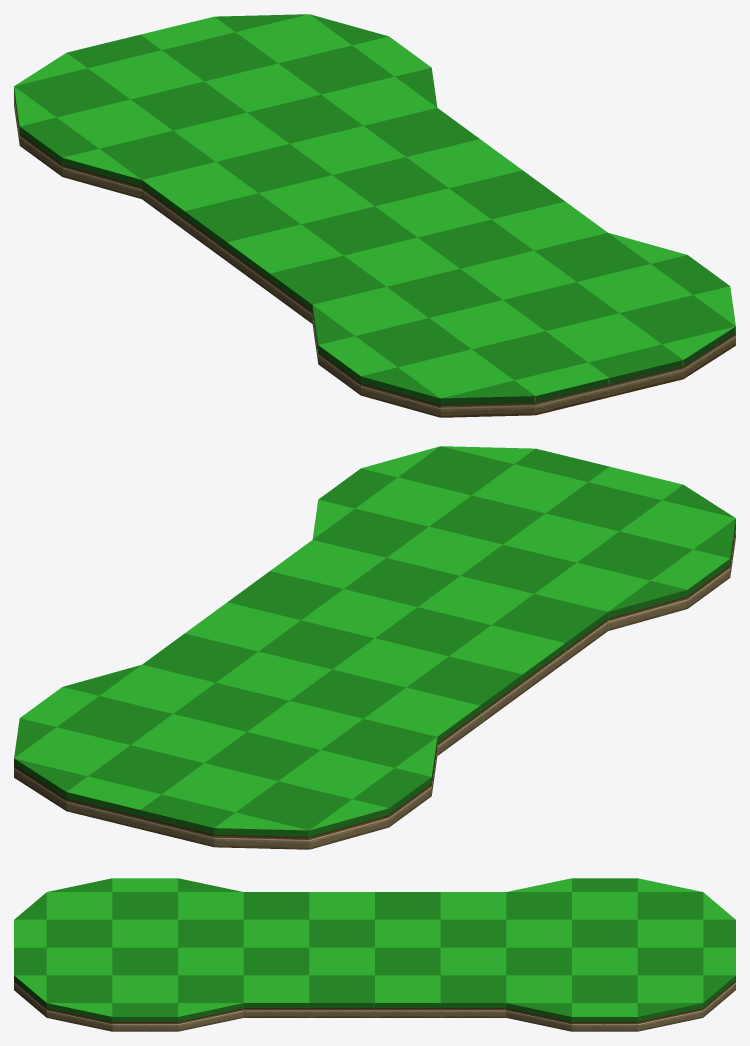
3 views of the same model, one above another, from view 1: azimuth 30°, elevation 25°; view 2: azimuth 150°, elevation 25°; view 3: azimuth 270°, elevation 25° (orthographic). The views are drawn at different scales.
Visible parts, largest first — view 1: OBJ_00_000048, OBJ_01_000295; view 2: OBJ_00_000048, OBJ_01_000295; view 3: OBJ_00_000048, OBJ_01_000295.
Part boxes in pixels (x1=…): OBJ_00_000048: x1=142, y1=108, x2=735, y2=417; OBJ_01_000295: x1=14, y1=14, x2=437, y2=198; OBJ_00_000048: x1=142, y1=446, x2=735, y2=755; OBJ_01_000295: x1=14, y1=665, x2=437, y2=849; OBJ_00_000048: x1=14, y1=878, x2=506, y2=1031; OBJ_01_000295: x1=506, y1=878, x2=735, y2=1031.
Size of the model in its own units: 5 by 0.25 by 11.
Materials: 3 (3 with a texture image).
